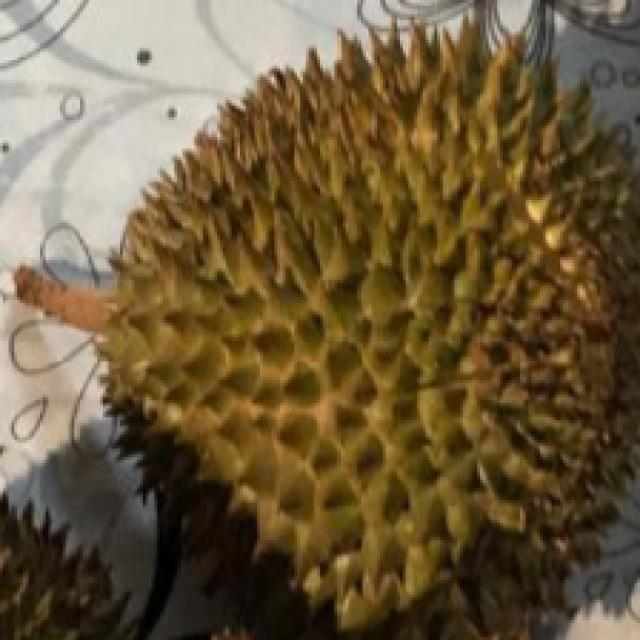d24: (39, 35, 627, 615)
